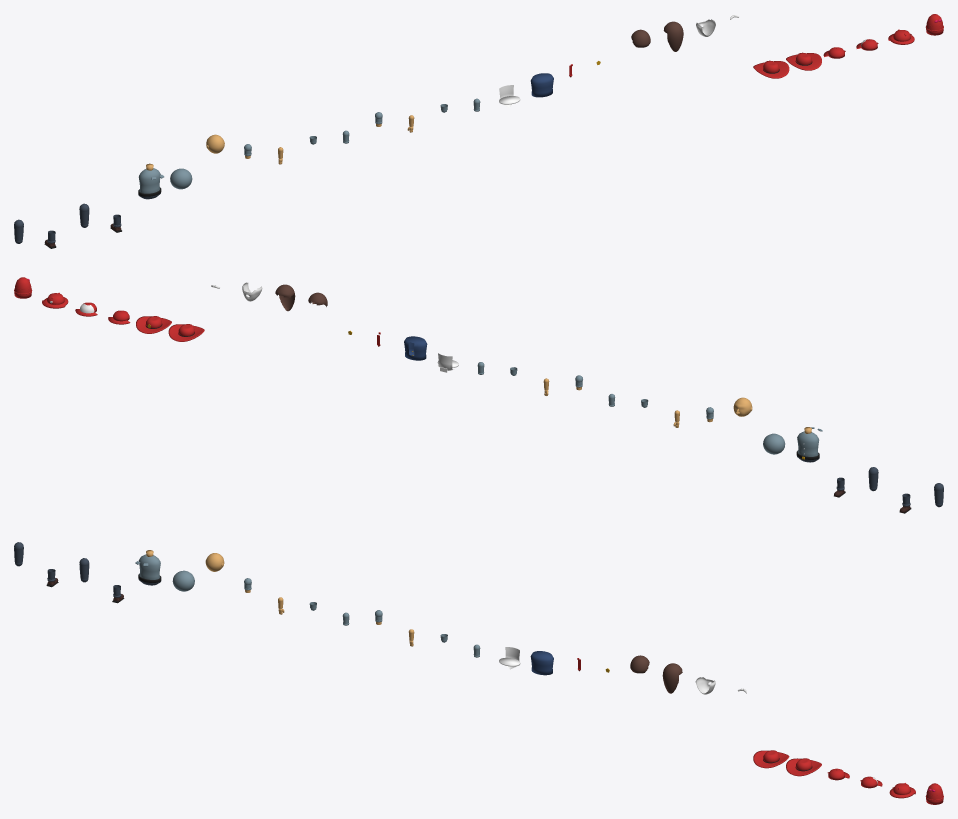
File: people.glb
The picture shows the model from 3 angles, top to bottom: view 1: azimuth 30°, elevation 25°; view 2: azimuth 150°, elevation 25°; view 3: azimuth 330°, elevation 25°; orthographic projection.
Parts seen in each view (by area): view 1: torso, vest, hat_cowboy; view 2: torso, vest, hat_cowboy; view 3: torso.
Boxes of the visible parts, <box> form: torso: <box>138,163,164,199</box>; vest: <box>530,73,553,97</box>; hat_cowboy: <box>753,60,789,78</box>; torso: <box>796,427,822,462</box>; vest: <box>404,336,427,360</box>; hat_cowboy: <box>168,324,204,341</box>; torso: <box>135,550,161,585</box>.
Bounding box in the file's own units: 28.37 × 2.14 × 1.06.
